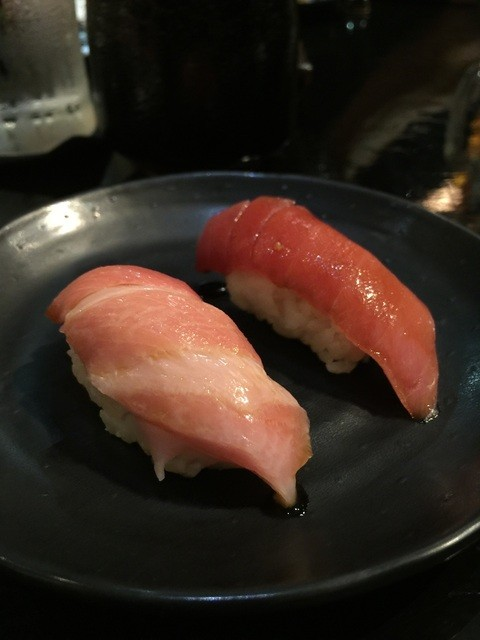medium_fatty_tuna: (204, 194, 441, 422)
